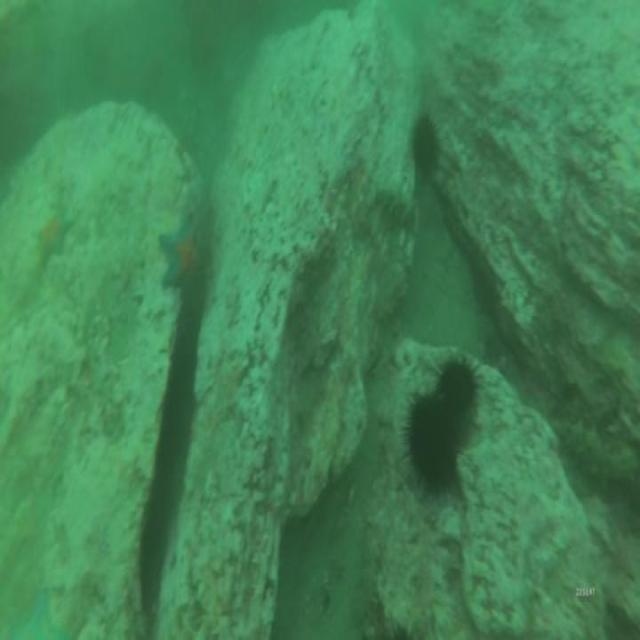echinus: (407, 397, 459, 493), (439, 356, 477, 417), (414, 119, 438, 180)
holothurian: (556, 416, 636, 493)
starfish: (158, 224, 202, 290), (34, 217, 74, 260)
